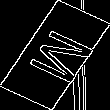M_SE: (15, 22, 95, 88)
